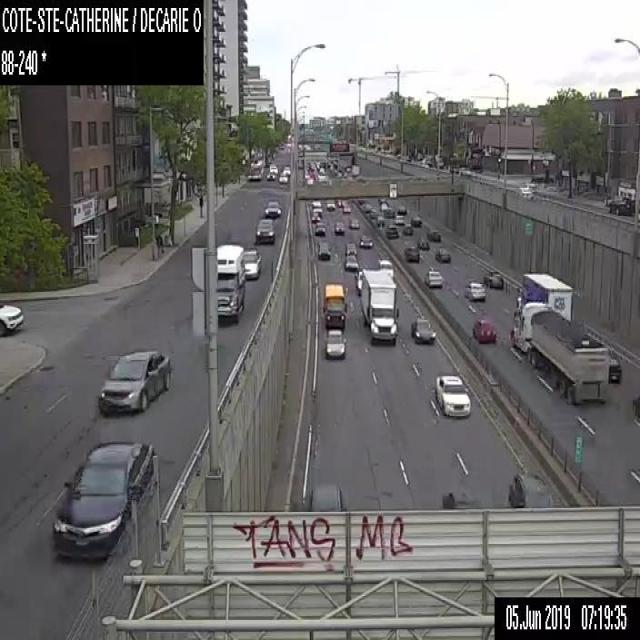bus: (322, 282, 347, 330)
pedestrian: (155, 234, 164, 256), (198, 193, 203, 216)
vehicle: (50, 439, 152, 557), (510, 300, 606, 404), (97, 350, 170, 413), (516, 272, 572, 326), (362, 268, 399, 346), (216, 243, 246, 324), (507, 472, 552, 505), (435, 374, 470, 416), (308, 483, 346, 514), (0, 301, 23, 335), (441, 488, 480, 508), (409, 317, 436, 343), (324, 329, 346, 357), (472, 318, 496, 343), (609, 196, 639, 215), (255, 217, 274, 245), (244, 248, 261, 278), (607, 351, 621, 382), (464, 281, 486, 300), (482, 270, 503, 289), (377, 257, 393, 278), (424, 269, 442, 287), (264, 199, 280, 216), (317, 240, 330, 259), (404, 246, 419, 262), (344, 254, 359, 270), (631, 393, 639, 420), (353, 270, 362, 294), (435, 249, 450, 263), (516, 186, 533, 198), (310, 200, 322, 217), (384, 224, 398, 238), (246, 168, 262, 180), (426, 229, 440, 241), (416, 237, 428, 250), (314, 222, 325, 235), (345, 242, 356, 254), (334, 220, 344, 233), (359, 236, 372, 246), (402, 223, 413, 234), (326, 198, 336, 210), (382, 206, 394, 216), (347, 217, 358, 227), (410, 214, 421, 224), (460, 168, 472, 177), (392, 215, 404, 224), (375, 215, 384, 225), (278, 172, 287, 182), (351, 164, 359, 175), (266, 171, 275, 180), (396, 207, 407, 214), (282, 163, 289, 174), (369, 207, 377, 216), (311, 212, 319, 221), (268, 164, 276, 172), (342, 204, 350, 212), (336, 199, 344, 206), (344, 166, 351, 171)
